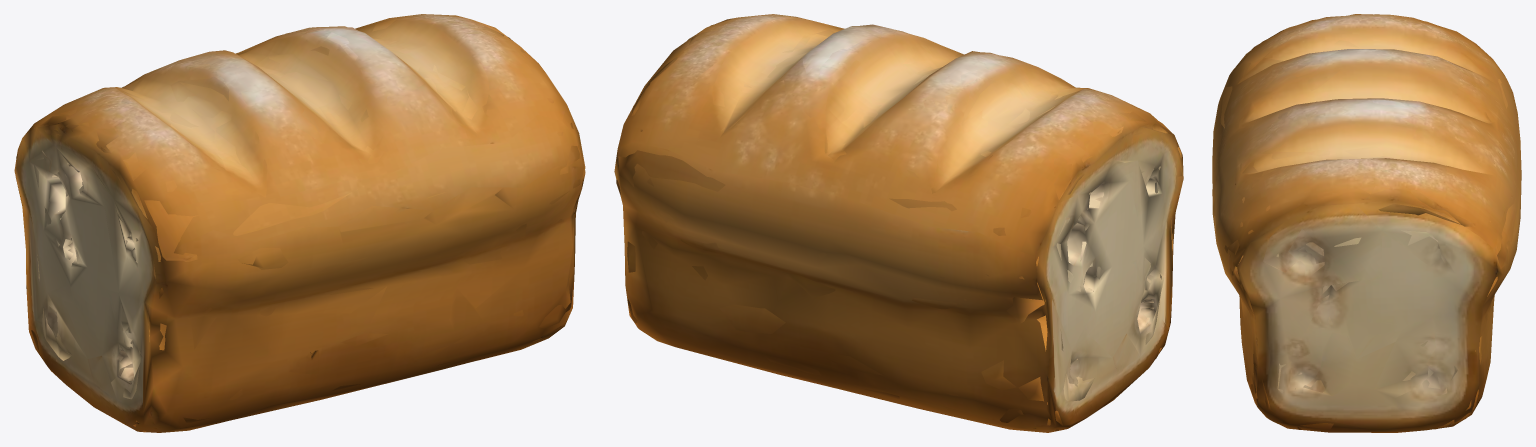
Rendered from giant_loaf.glb.
3 renders of one model, left to right at view 1: azimuth 30°, elevation 25°; view 2: azimuth 150°, elevation 25°; view 3: azimuth 270°, elevation 25°, orthographic. The views are drawn at different scales.
Visible parts, largest first — view 1: giant_loaf; view 2: giant_loaf; view 3: giant_loaf.
Part boxes in pixels (box(x1,y1,x2,y2)): giant_loaf: box(14, 14, 585, 432); giant_loaf: box(614, 14, 1183, 432); giant_loaf: box(1212, 14, 1521, 432).
Bounding box in the file's own units: 5 × 3.41 × 3.51.
1 material, 1 textured.
